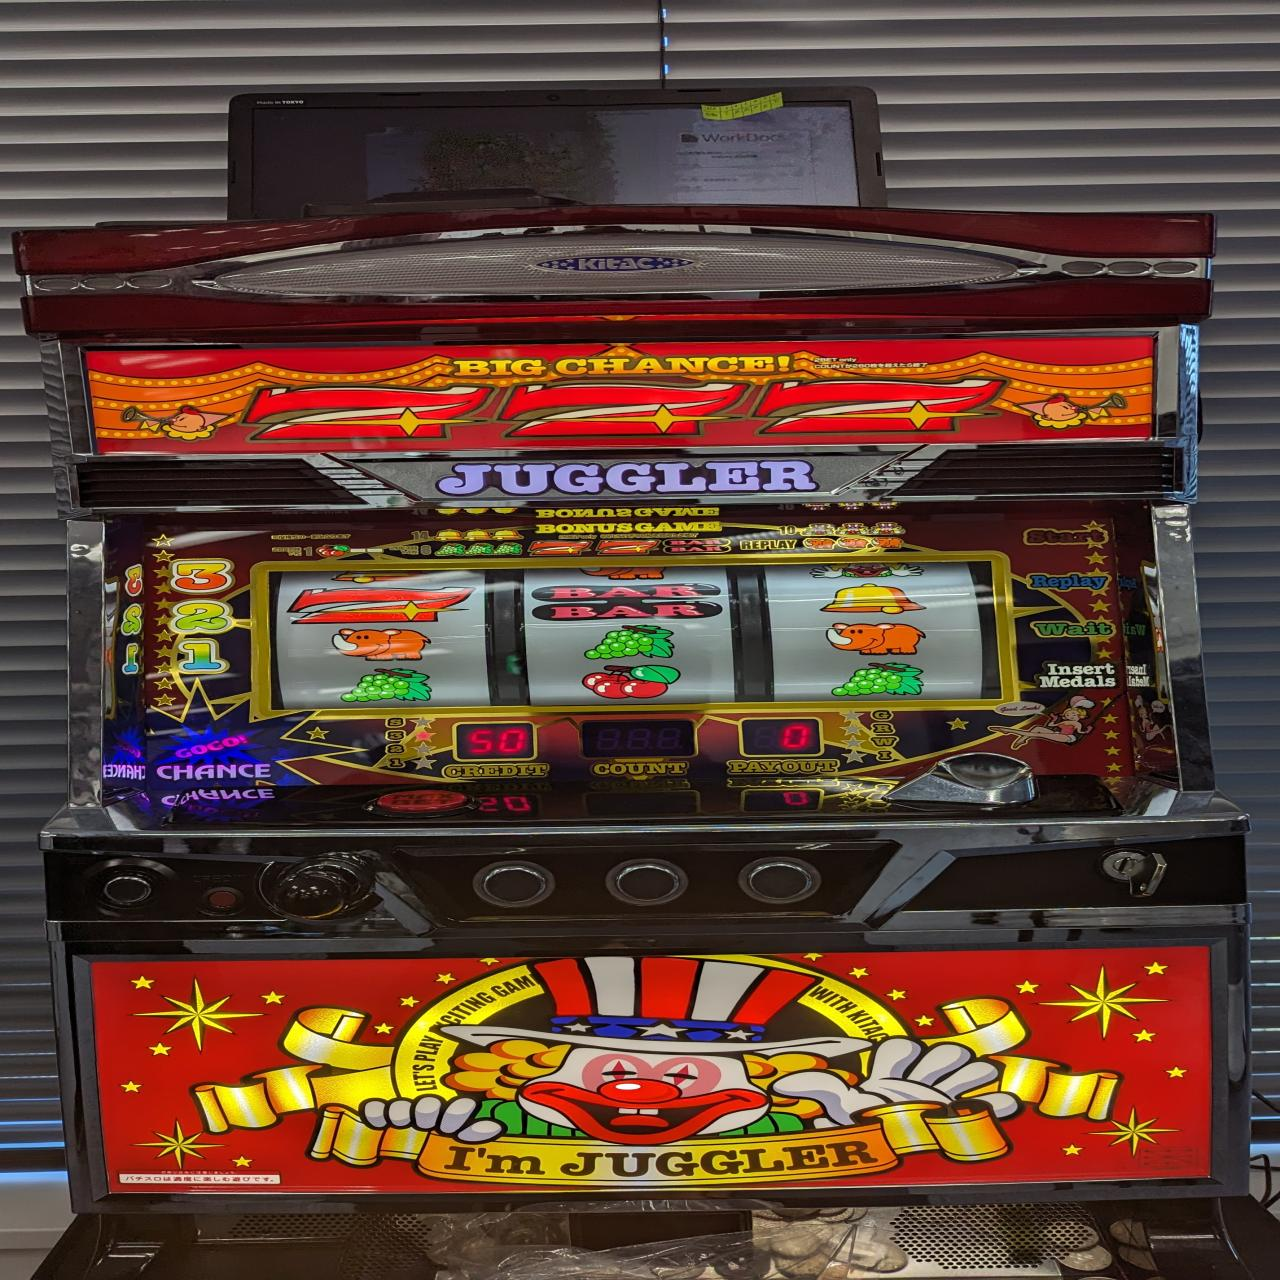7: (282, 585, 475, 625)
Display: (261, 564, 1008, 701)
bar: (526, 580, 727, 622)
bell: (817, 581, 930, 617)
cherry: (579, 663, 685, 700)
grape: (332, 666, 440, 703), (825, 660, 930, 697), (581, 624, 678, 663)
rhino: (324, 626, 437, 662), (817, 621, 930, 658)
